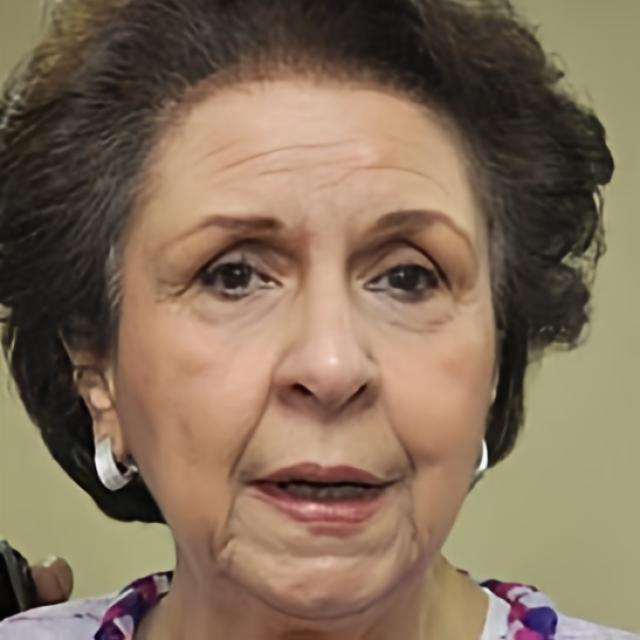surprise: (116, 53, 498, 620)
